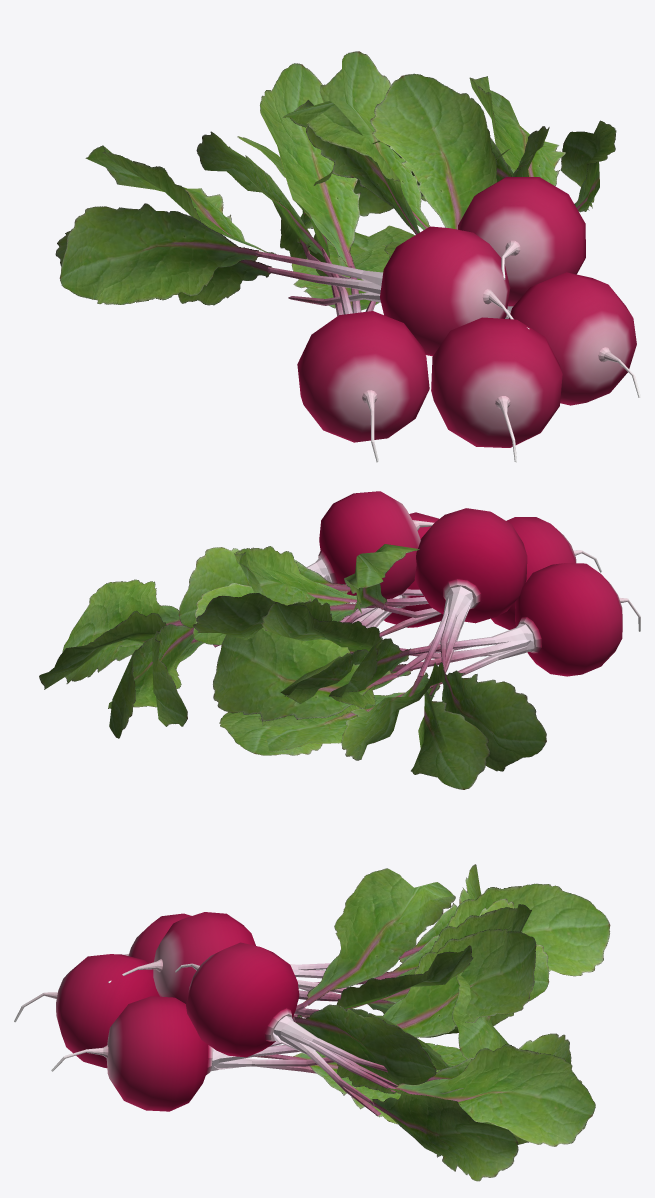
File: Rediska.fbx
3 renders of one model, top to bottom at view 1: azimuth 30°, elevation 25°; view 2: azimuth 150°, elevation 25°; view 3: azimuth 270°, elevation 25°, orthographic. The views are drawn at different scales.
Visible parts, largest first — view 1: Open3DModel (2).001; view 2: Open3DModel (2).001; view 3: Open3DModel (2).001.
Part boxes in pixels (box(x1,y1,x2,y2)): Open3DModel (2).001: box(55, 51, 640, 462); Open3DModel (2).001: box(39, 491, 640, 789); Open3DModel (2).001: box(14, 864, 610, 1181).
Size of the model in its own units: 696 by 280 by 742.
Materials: 2 (2 with a texture image).
